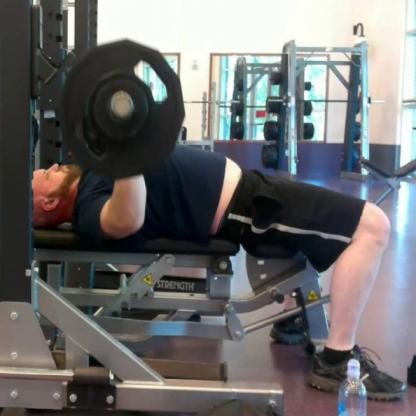Barbell: (55, 30, 190, 183)
